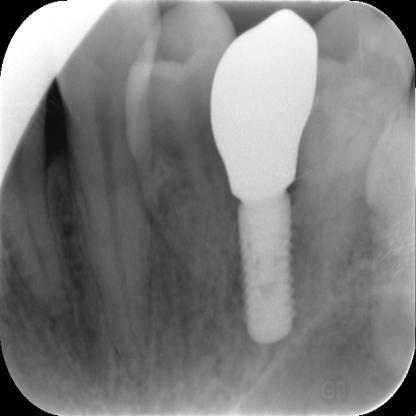ITI: (232, 196, 300, 346)
